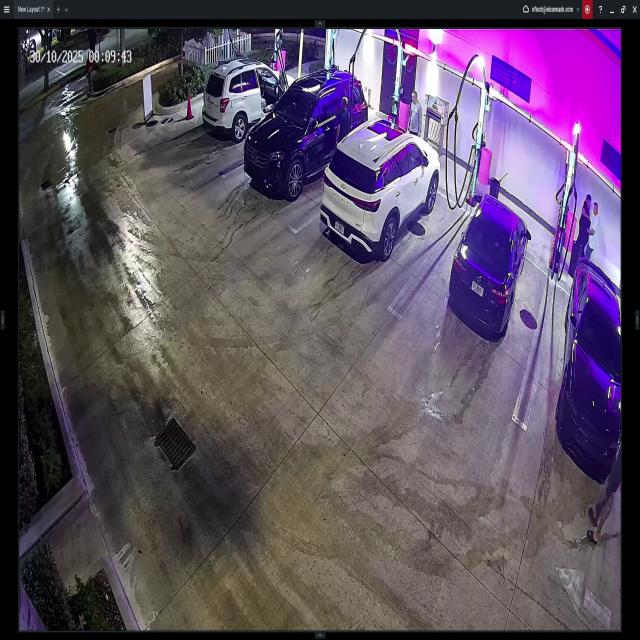Car: (320, 118, 438, 259), (548, 261, 625, 472), (246, 65, 368, 192), (448, 189, 524, 336), (204, 59, 297, 135)
